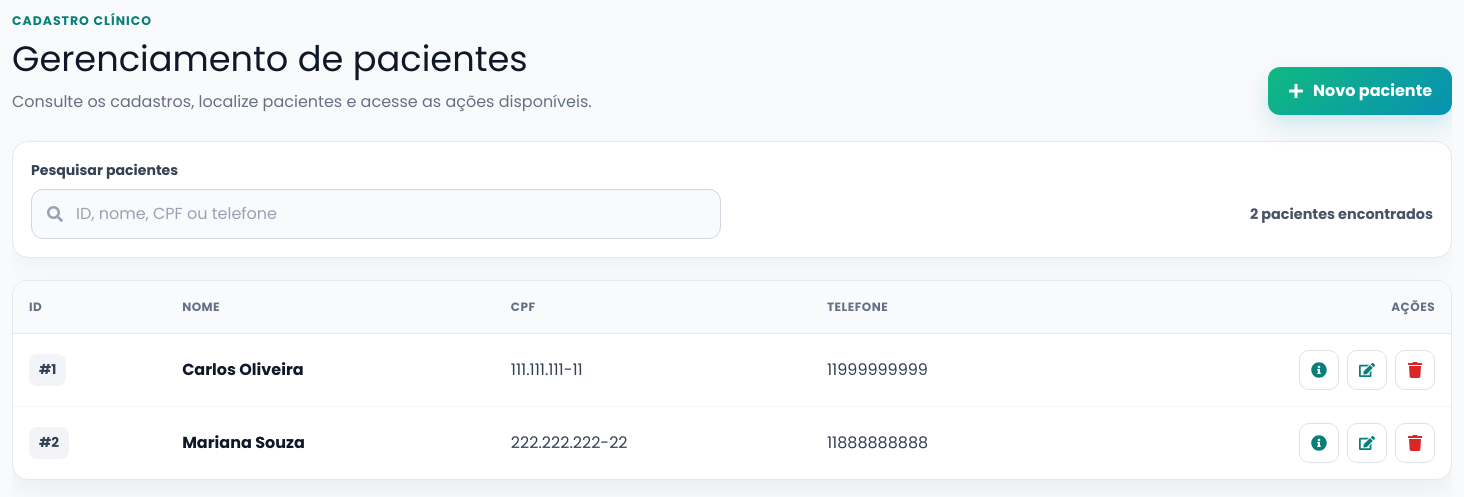
Scenario: Patient workspace › renders a labelled search and filters patients by name
Type "Mariana" into the search field labelled "Pesquisar pacientes". click: coordinates (376, 214)
box: [31,189,721,239]
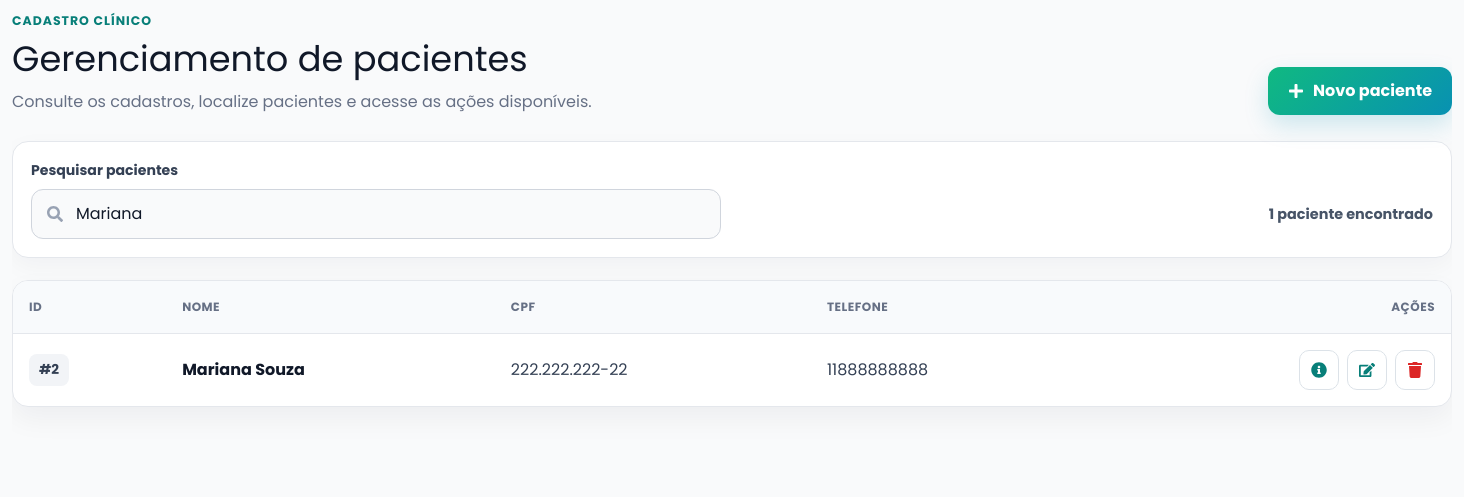
Expected: the text "Mariana Souza" is shown, [166,333,495,406]
Now the text "Carlos Oliveira" is gone
Now the text "1 paciente encontrado" is shown, box [1269,204,1433,226]
